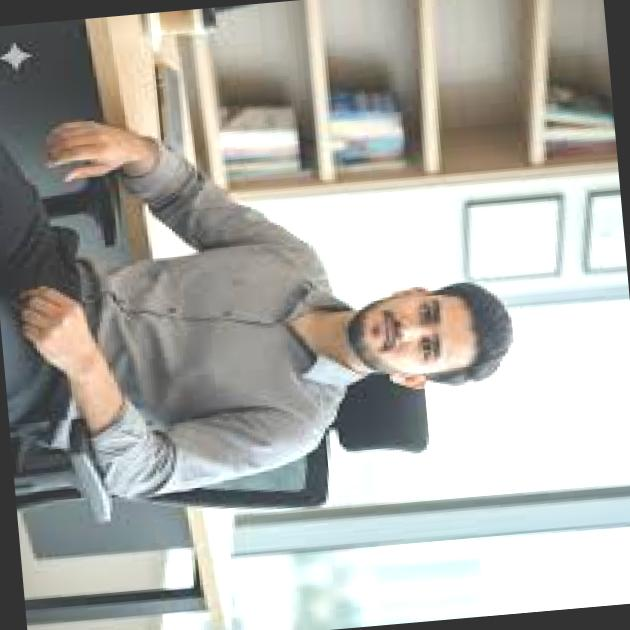there is a person: (0, 101, 534, 535)
